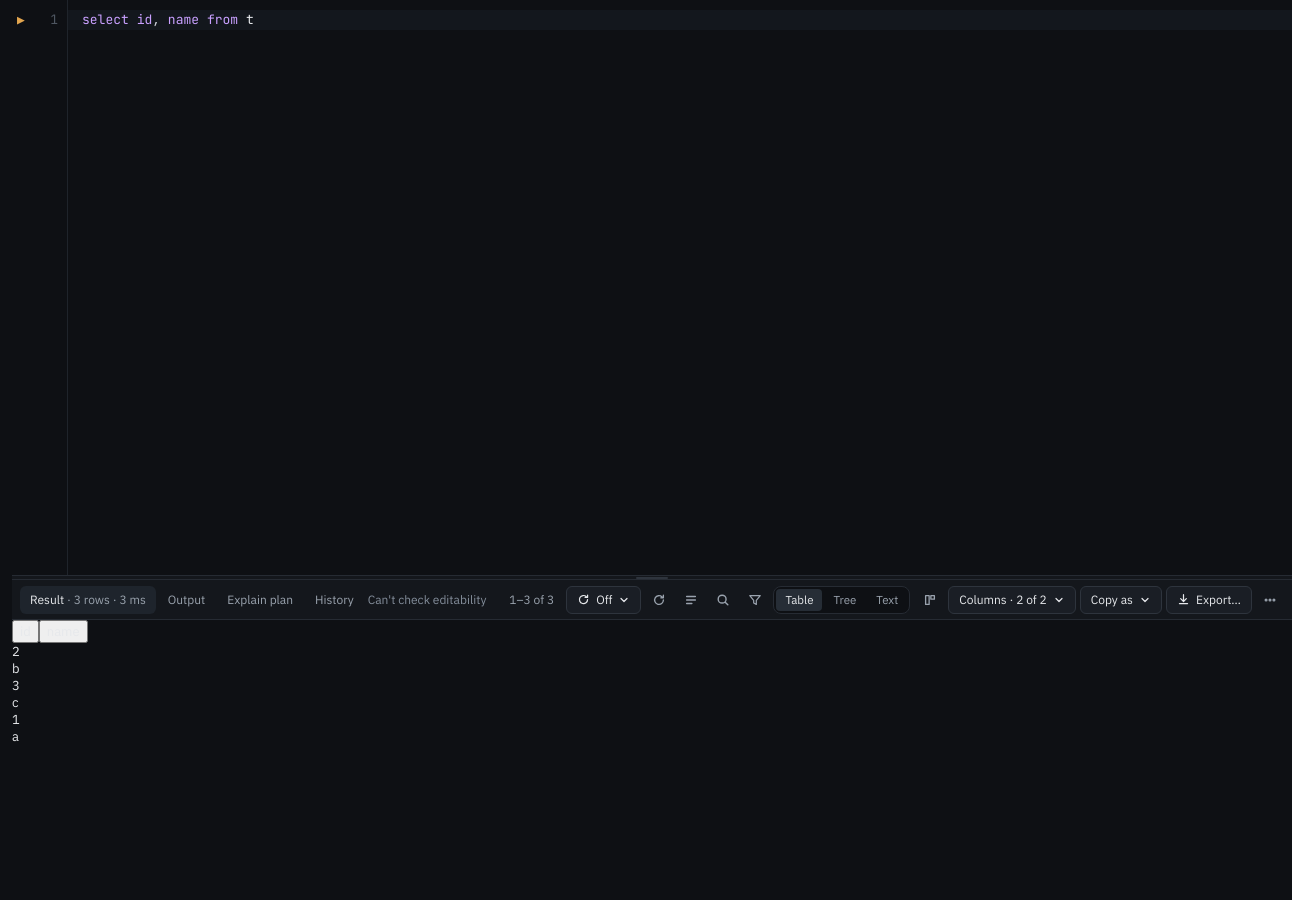
Test: columns and transpose › hides columns from the Columns menu and counts them
expect the table is shown: met, box [12,620,88,745]
Click the button "Columns · 2 of 2" at (1012, 600), box [948,586,1076,614]
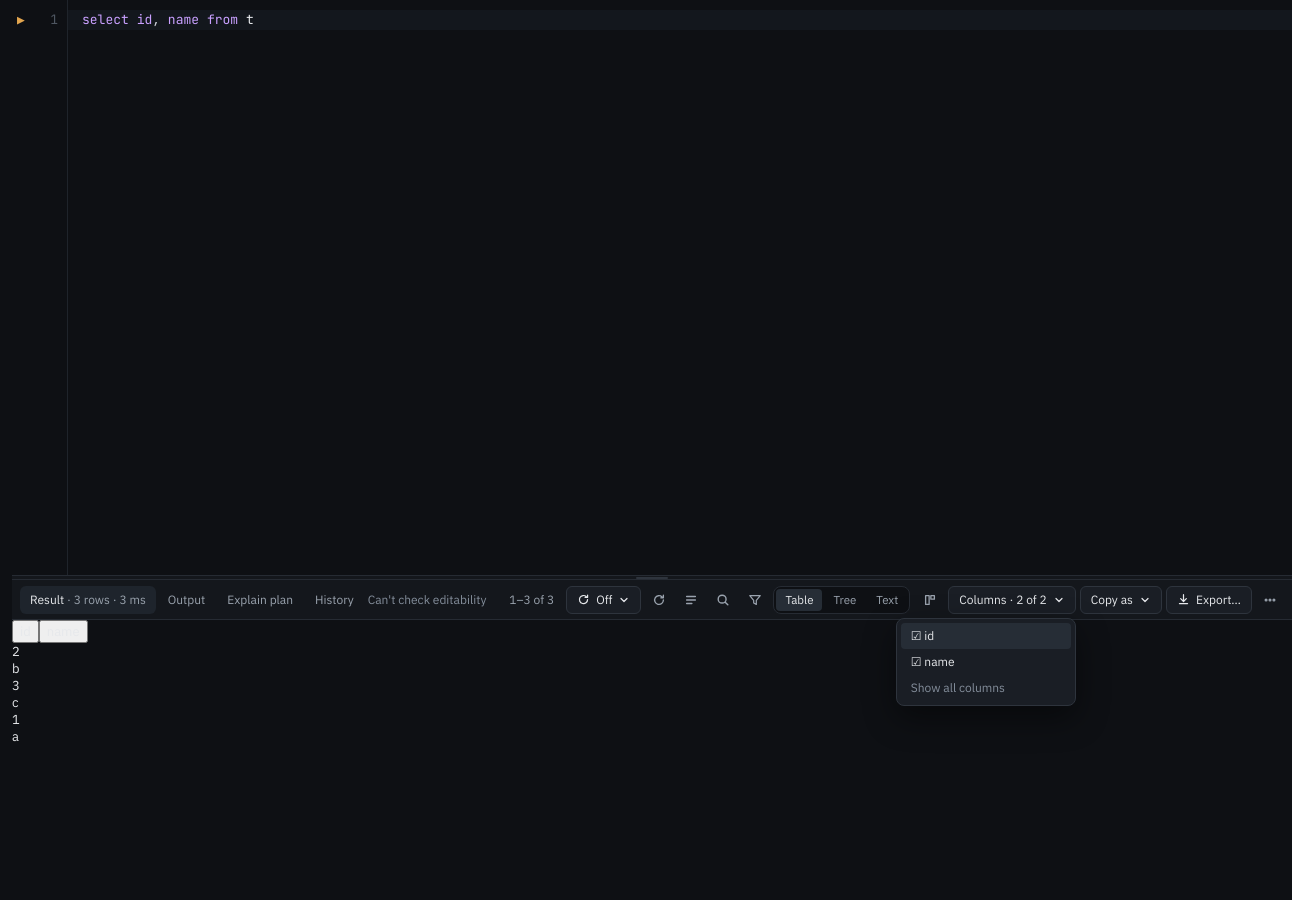
Click the menu item "☑ name" at (986, 662), box [901,648,1071,674]
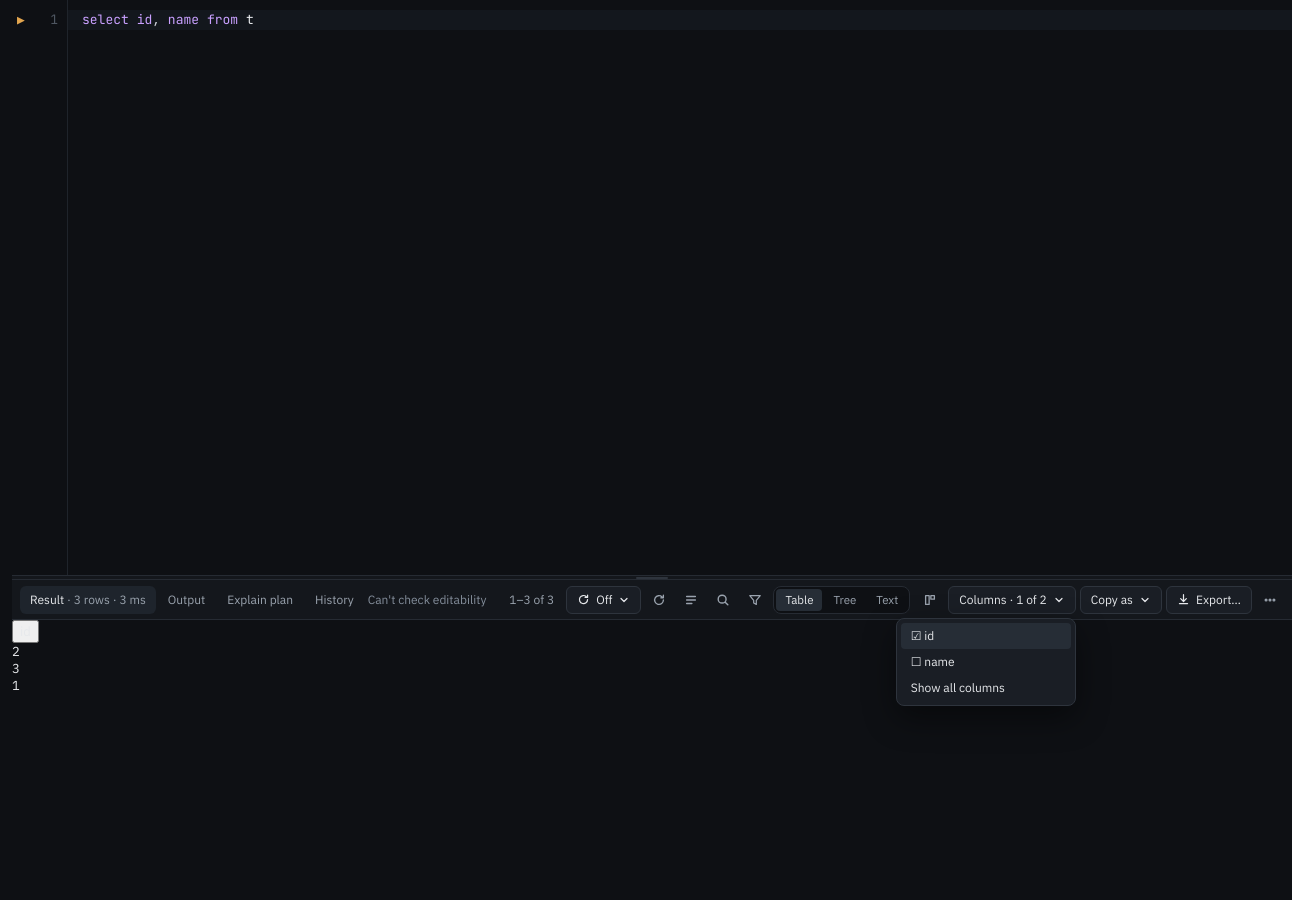
expect the button "Columns · 1 of 2" is shown: met, box [948,586,1076,614]
Click the menu item "Show all columns" at (986, 688), box [901,674,1071,700]
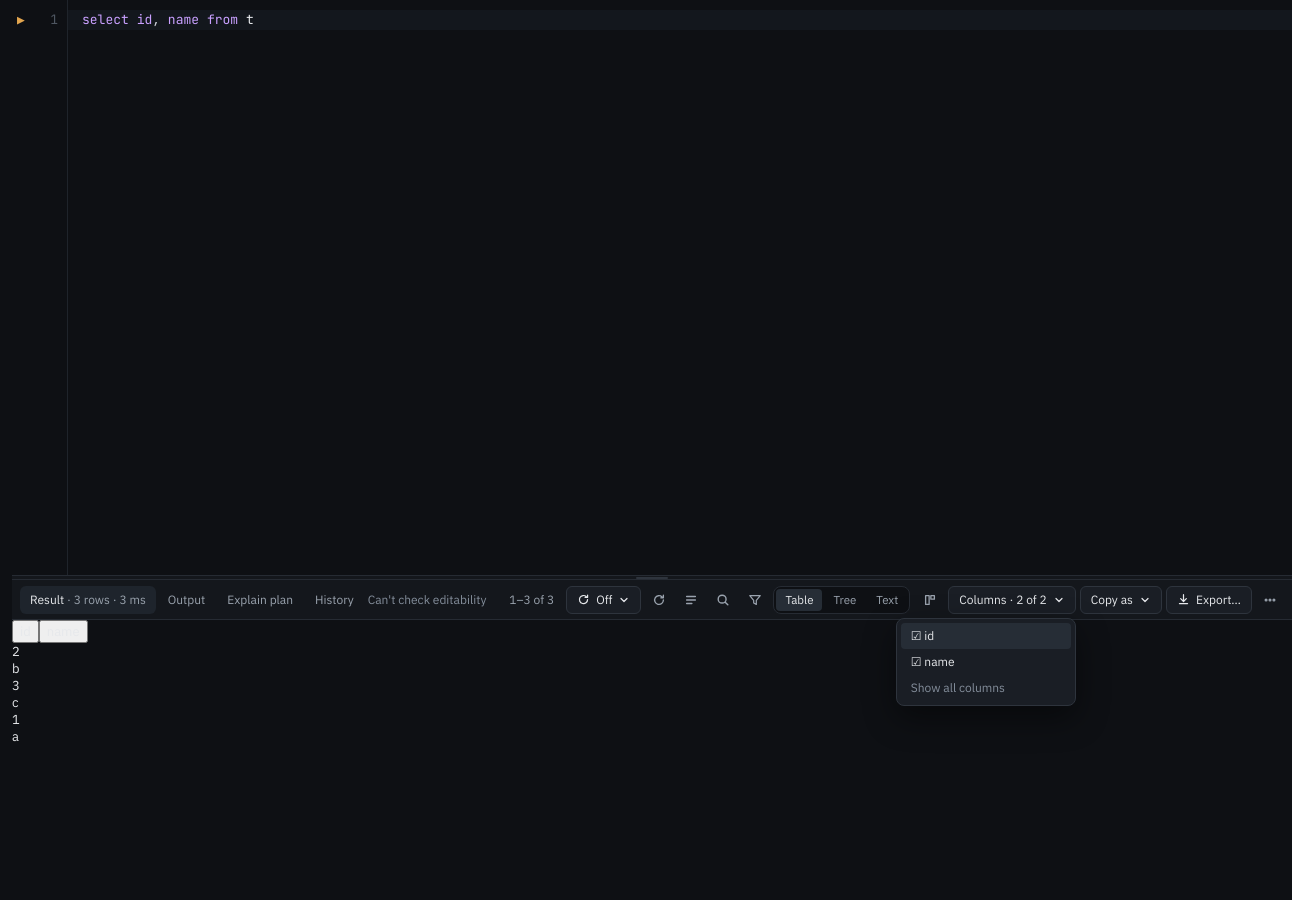
expect the column heading "name" is shown: met, box [39,620,88,643]
